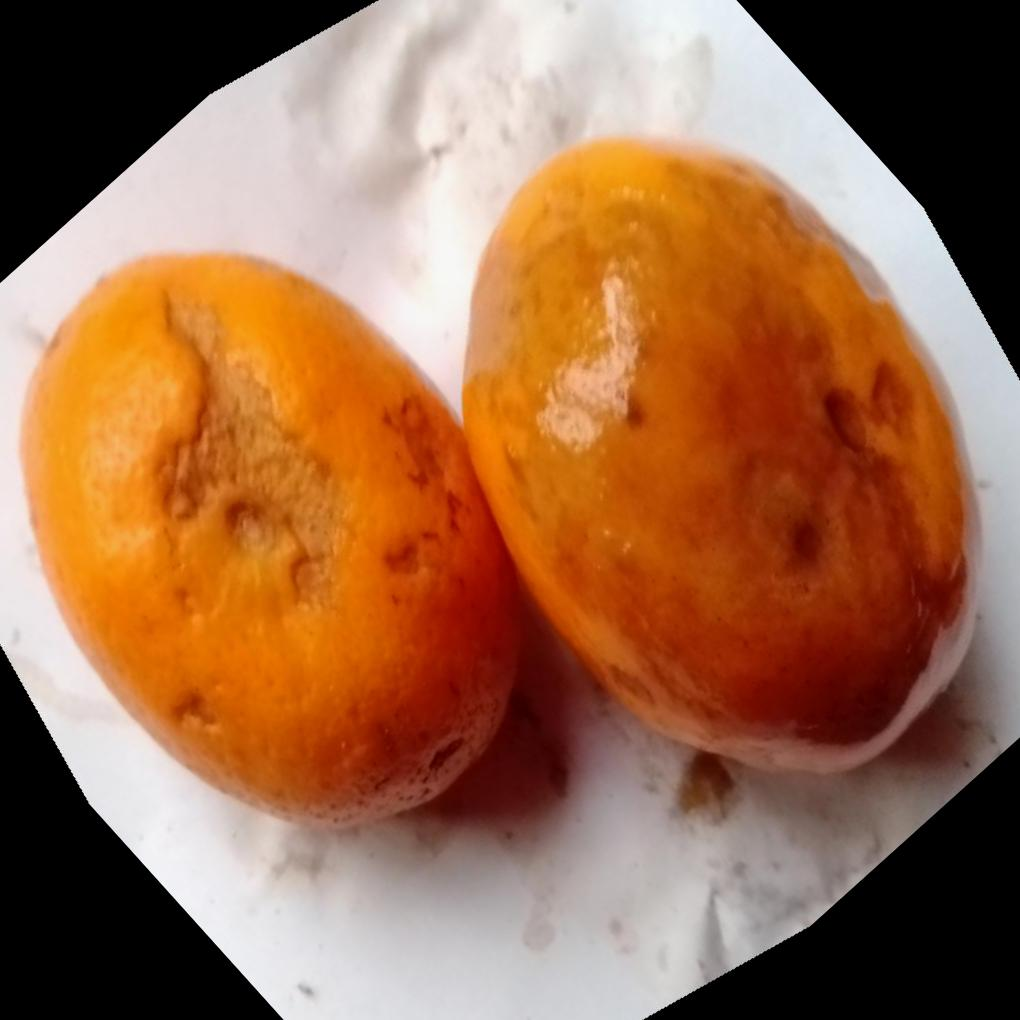FreshOrange: (12, 135, 979, 836)
